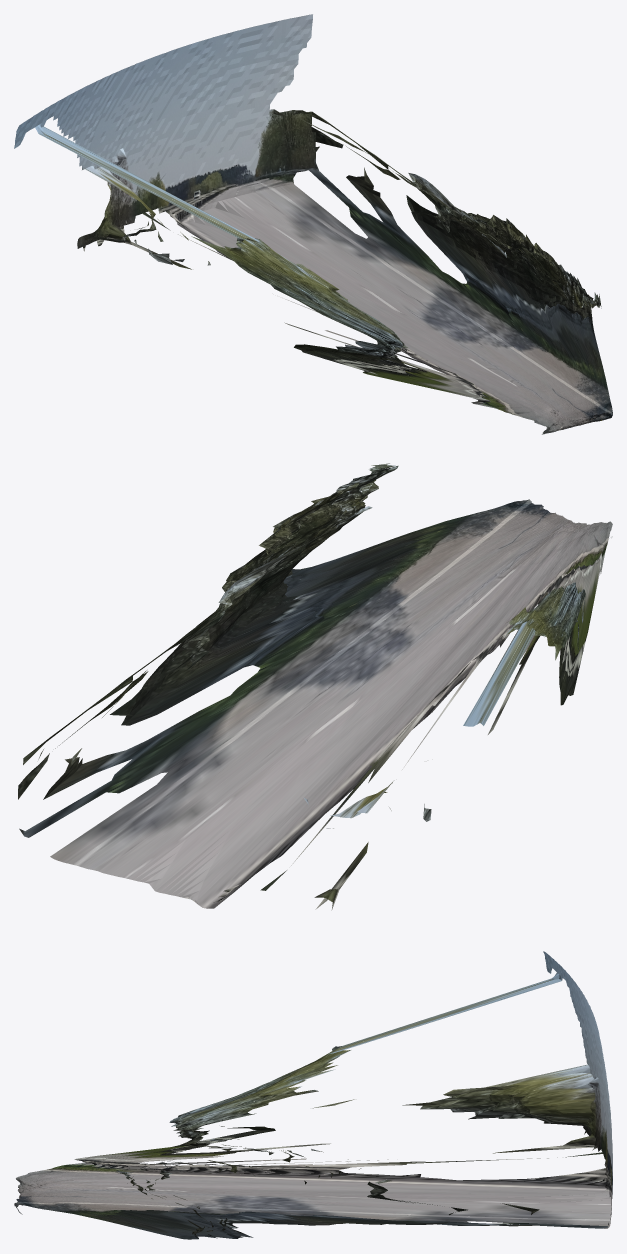
The picture shows the model from 3 angles, top to bottom: view 1: azimuth 30°, elevation 25°; view 2: azimuth 150°, elevation 25°; view 3: azimuth 270°, elevation 25°; orthographic projection. The views are drawn at different scales.
Parts seen in each view (by area): view 1: defaultobject; view 2: defaultobject; view 3: defaultobject.
Boxes of the visible parts, x1,y1,x2,y2 form: defaultobject: (14,14,612,434); defaultobject: (18,463,612,910); defaultobject: (14,951,612,1239).
Bounding box in the file's own units: 29.2 × 13.21 × 44.42.
1 material, 1 textured.
